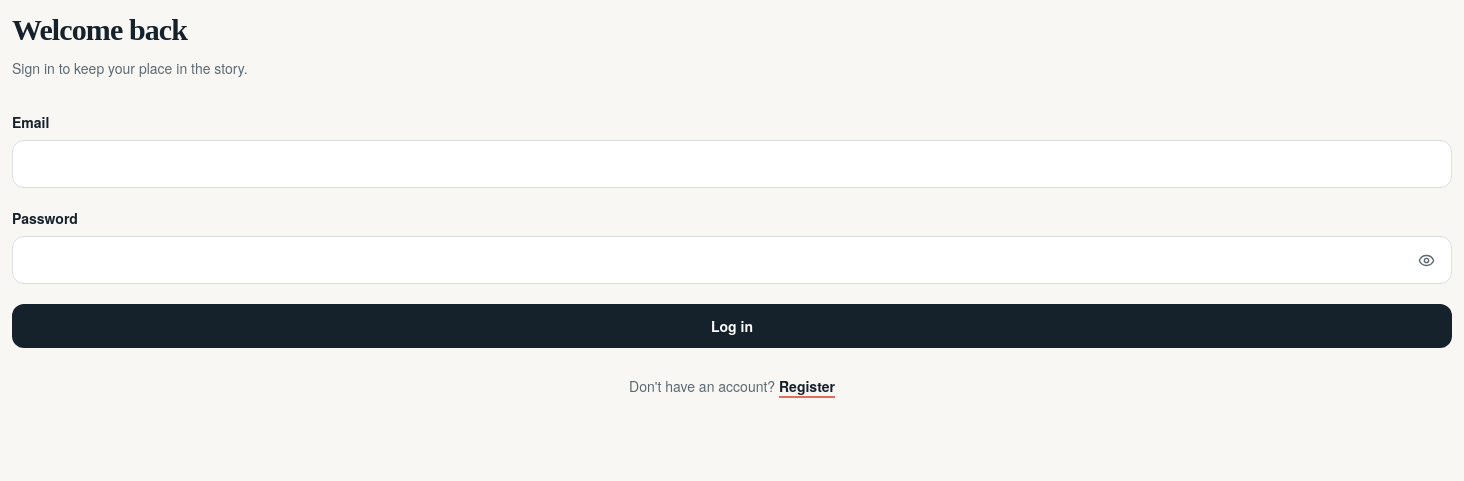
Test: LoginForm › renders an API error without exposing implementation details
In the field labelled "Email": (732,164) [12, 140, 1452, 188], type "reader@example.com"
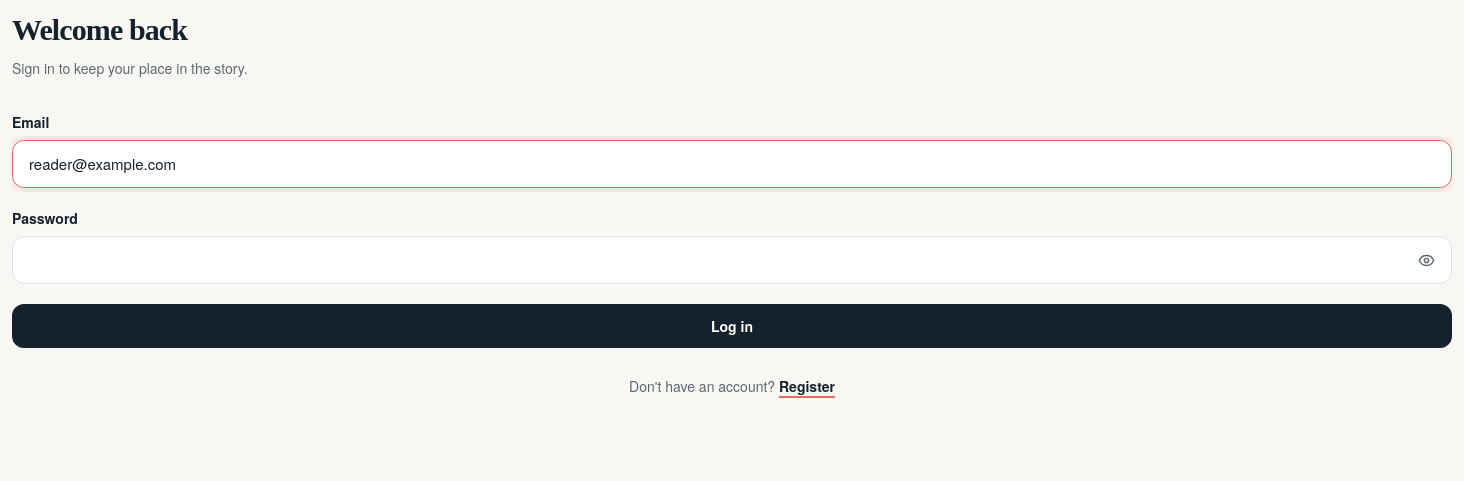
In the password field labelled "Password": (732,260) [12, 236, 1452, 284], type "wrongpass"
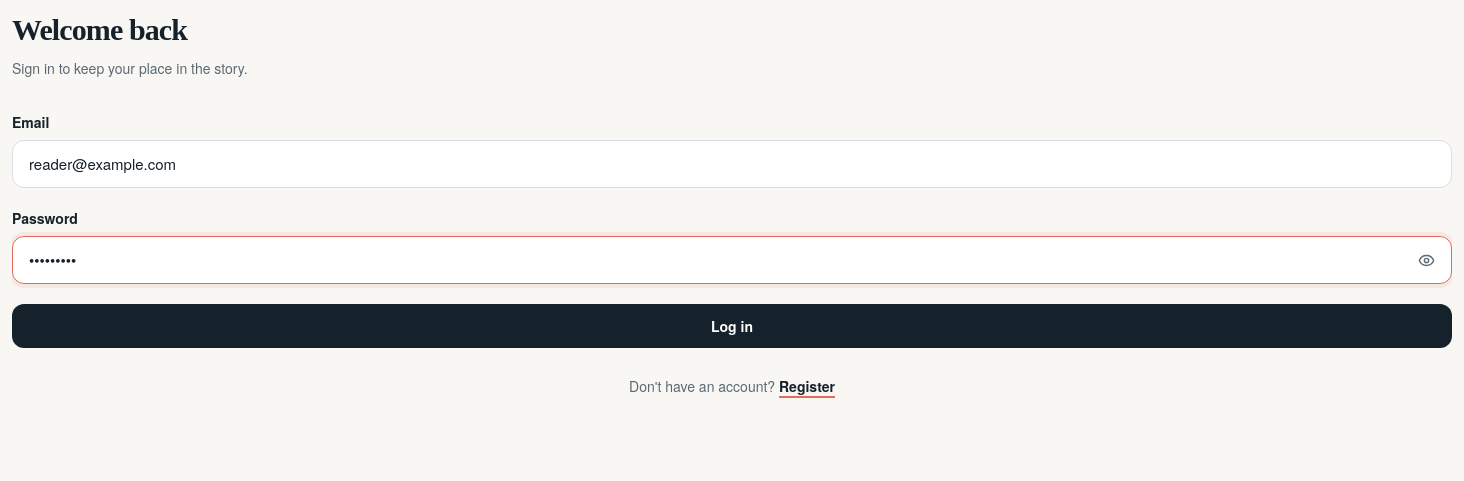
Click the button "Log in": (732,326) [12, 304, 1452, 348]
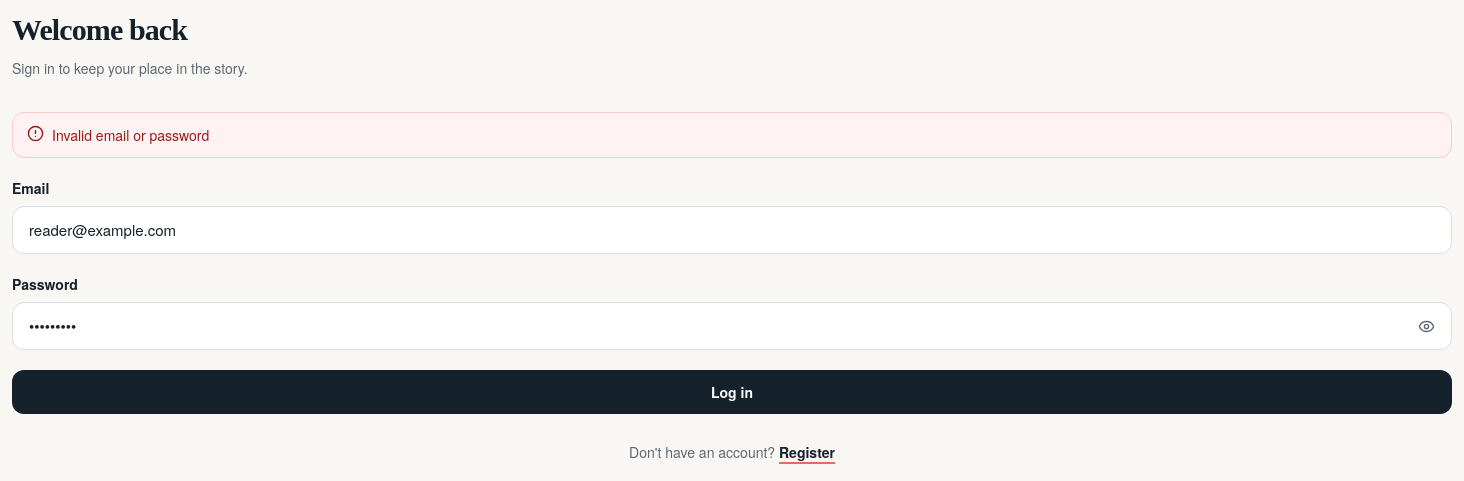
Now the message reads "Invalid email or password", box [52, 125, 209, 145]
